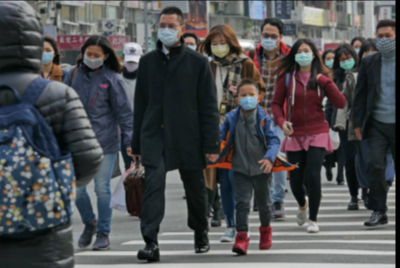with_mask: (157, 21, 180, 47), (375, 32, 395, 54), (84, 50, 104, 70), (210, 39, 230, 59), (260, 32, 280, 52), (294, 47, 313, 68), (239, 90, 257, 110), (39, 47, 55, 66), (339, 55, 356, 71), (123, 58, 139, 73), (324, 55, 337, 70), (184, 40, 197, 53), (352, 44, 362, 55)
